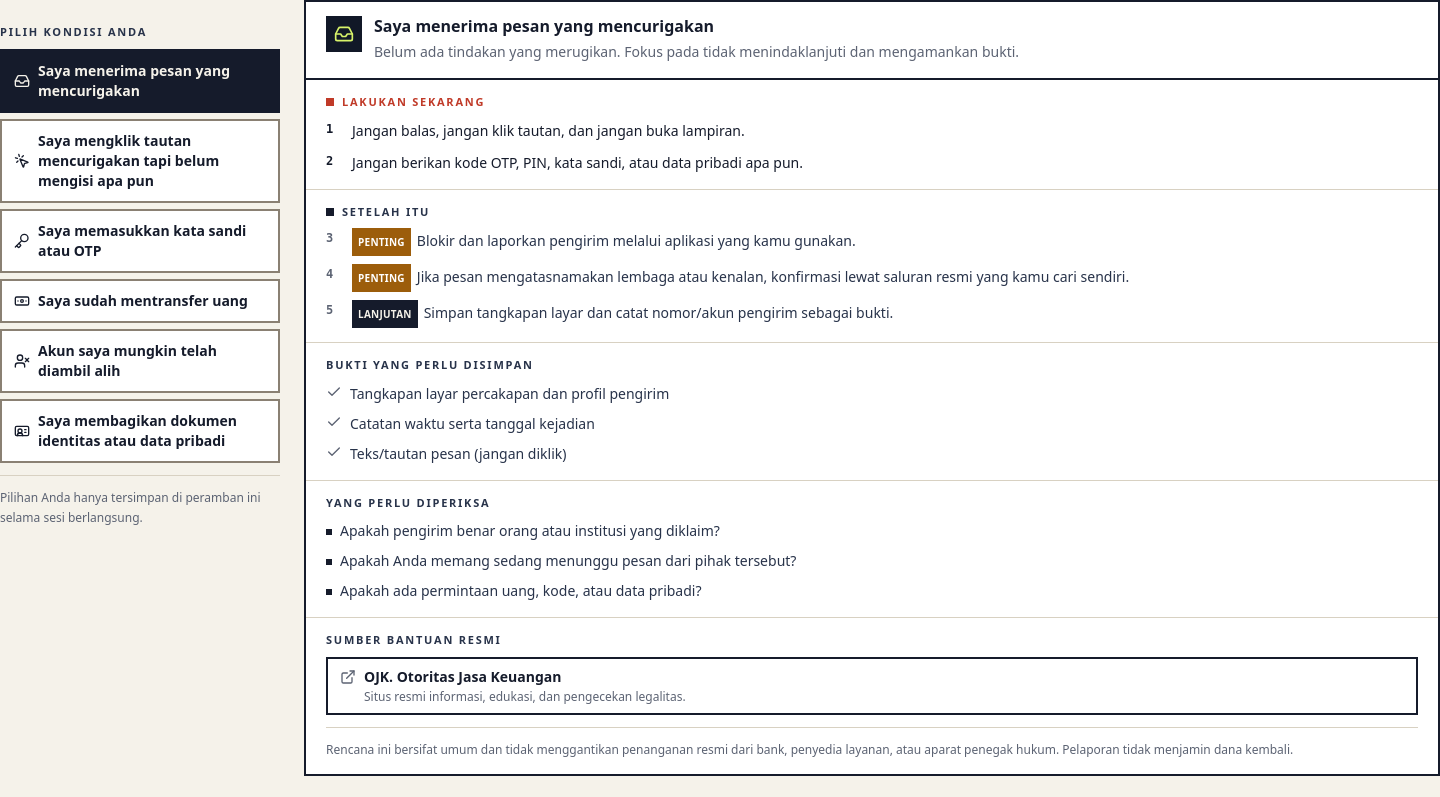
Test: Rencana tindakan › menampilkan lima bagian rencana untuk setiap kondisi
Click the button "Saya menerima pesan yang mencurigakan": (140, 80) left=0, top=48, right=280, bottom=112
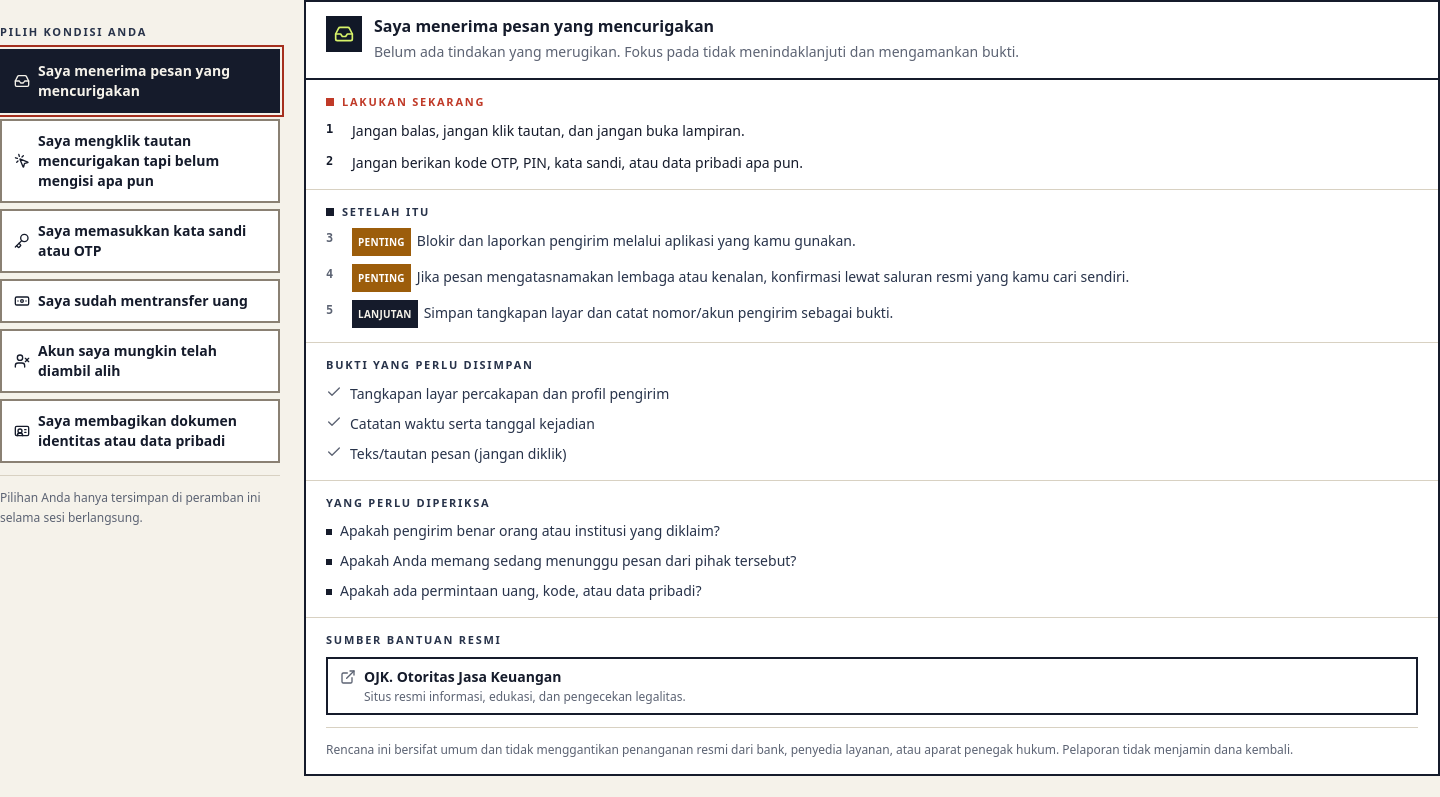
Expected: the text "Belum ada tindakan yang merugikan. Fokus pada tidak menindaklanjuti dan mengamankan bukti." is shown, left=374, top=42, right=1019, bottom=61
Expected: the heading "Lakukan sekarang" is shown, left=326, top=94, right=485, bottom=109
Click the button "Saya mengklik tautan mencurigakan tapi belum mengisi apa pun": (140, 160) left=0, top=118, right=280, bottom=202
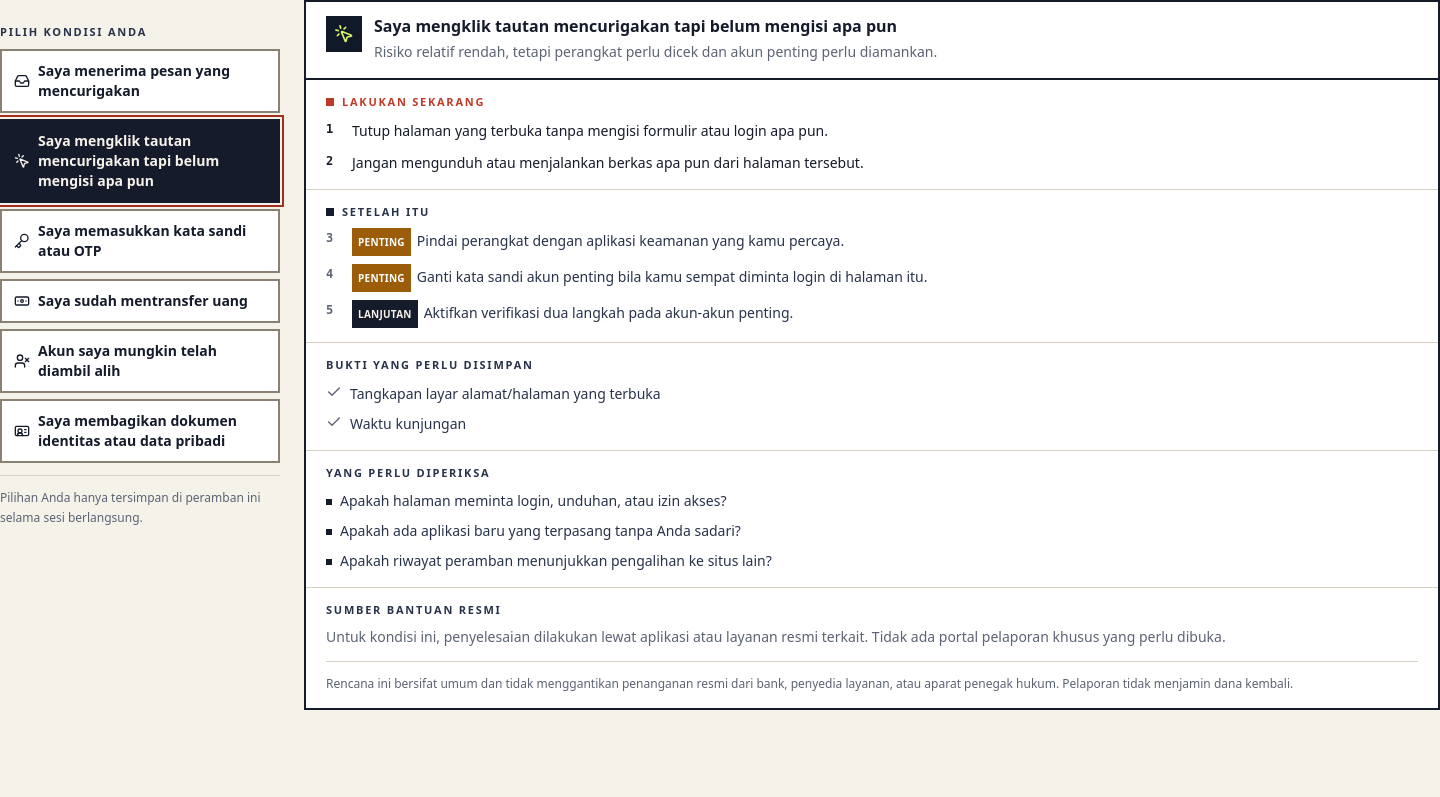
Expected: the heading "Lakukan sekarang" is shown, left=326, top=94, right=485, bottom=109
Now the text "Risiko relatif rendah, tetapi perangkat perlu dicek dan akun penting perlu diamankan." is shown, box left=374, top=42, right=937, bottom=61
Click the button "Saya memasukkan kata sandi atau OTP": (140, 240) left=0, top=208, right=280, bottom=272
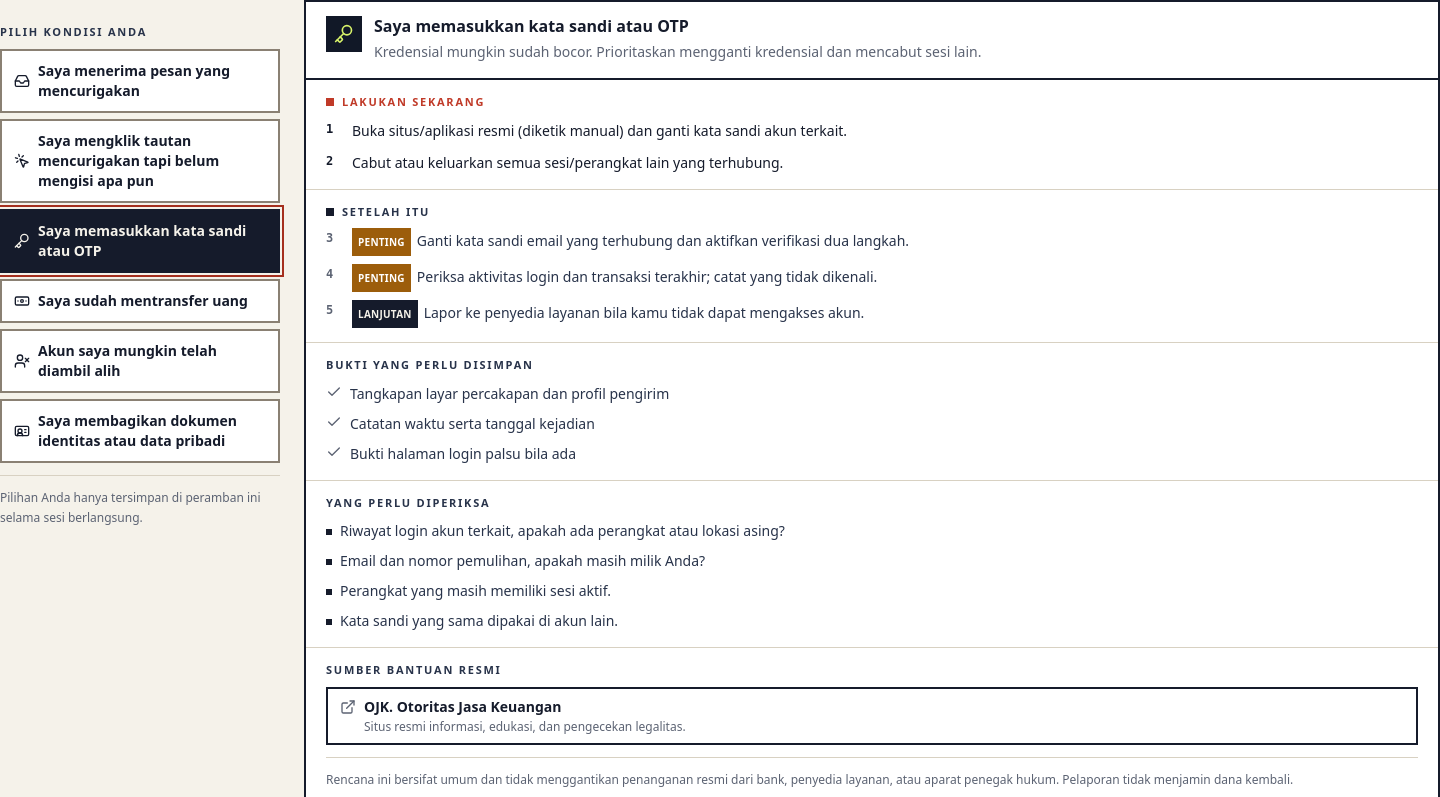
Expected: the heading "Lakukan sekarang" is shown, left=326, top=94, right=485, bottom=109
Now the text "Kredensial mungkin sudah bocor. Prioritaskan mengganti kredensial dan mencabut sesi lain." is shown, box left=374, top=42, right=981, bottom=61
Click the button "Saya sudah mentransfer uang": (140, 300) left=0, top=278, right=280, bottom=322
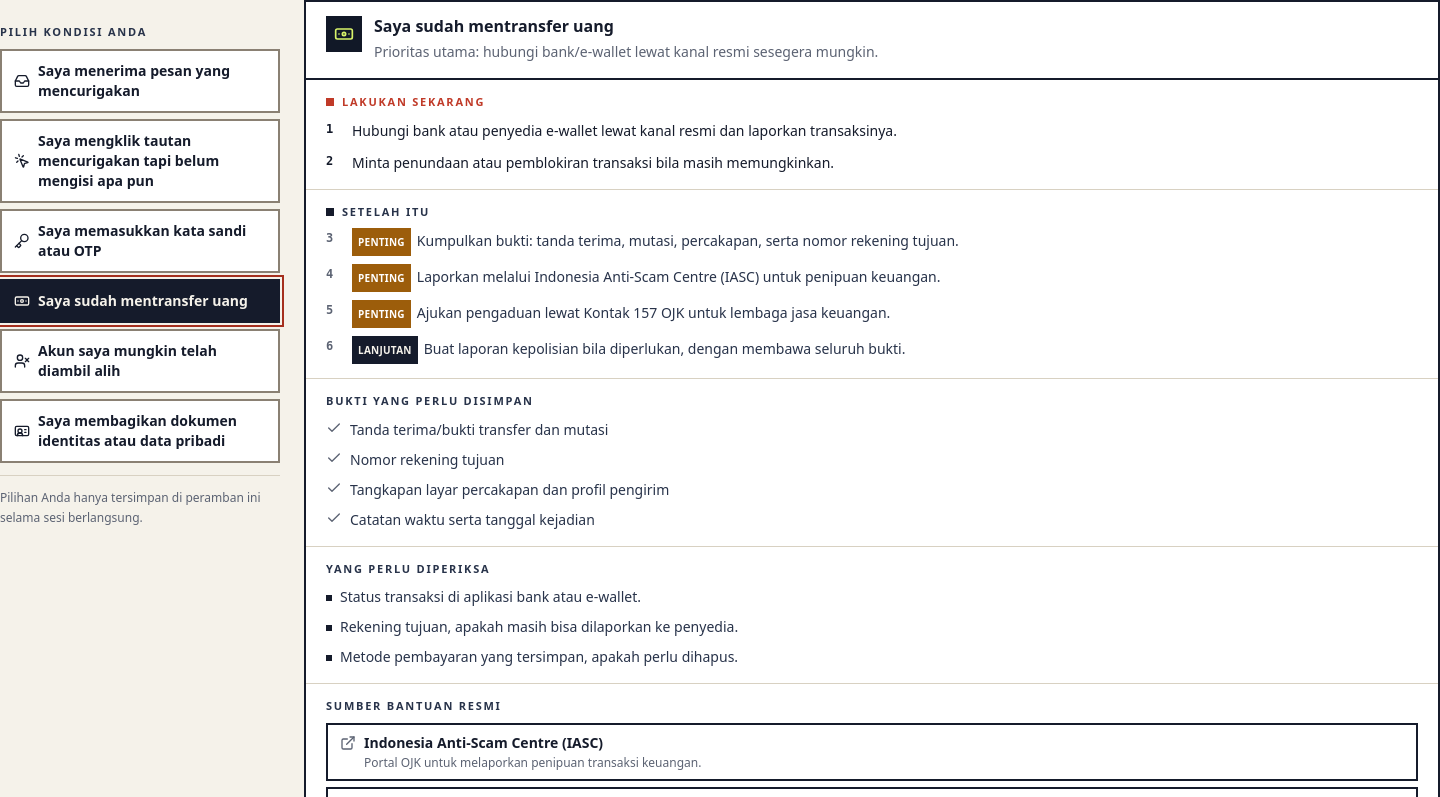
Expected: the heading "Lakukan sekarang" is shown, left=326, top=94, right=485, bottom=109
Now the text "Prioritas utama: hubungi bank/e-wallet lewat kanal resmi sesegera mungkin." is shown, box left=374, top=40, right=878, bottom=64
Click the button "Akun saya mungkin telah diambil alih": (140, 360) left=0, top=328, right=280, bottom=392
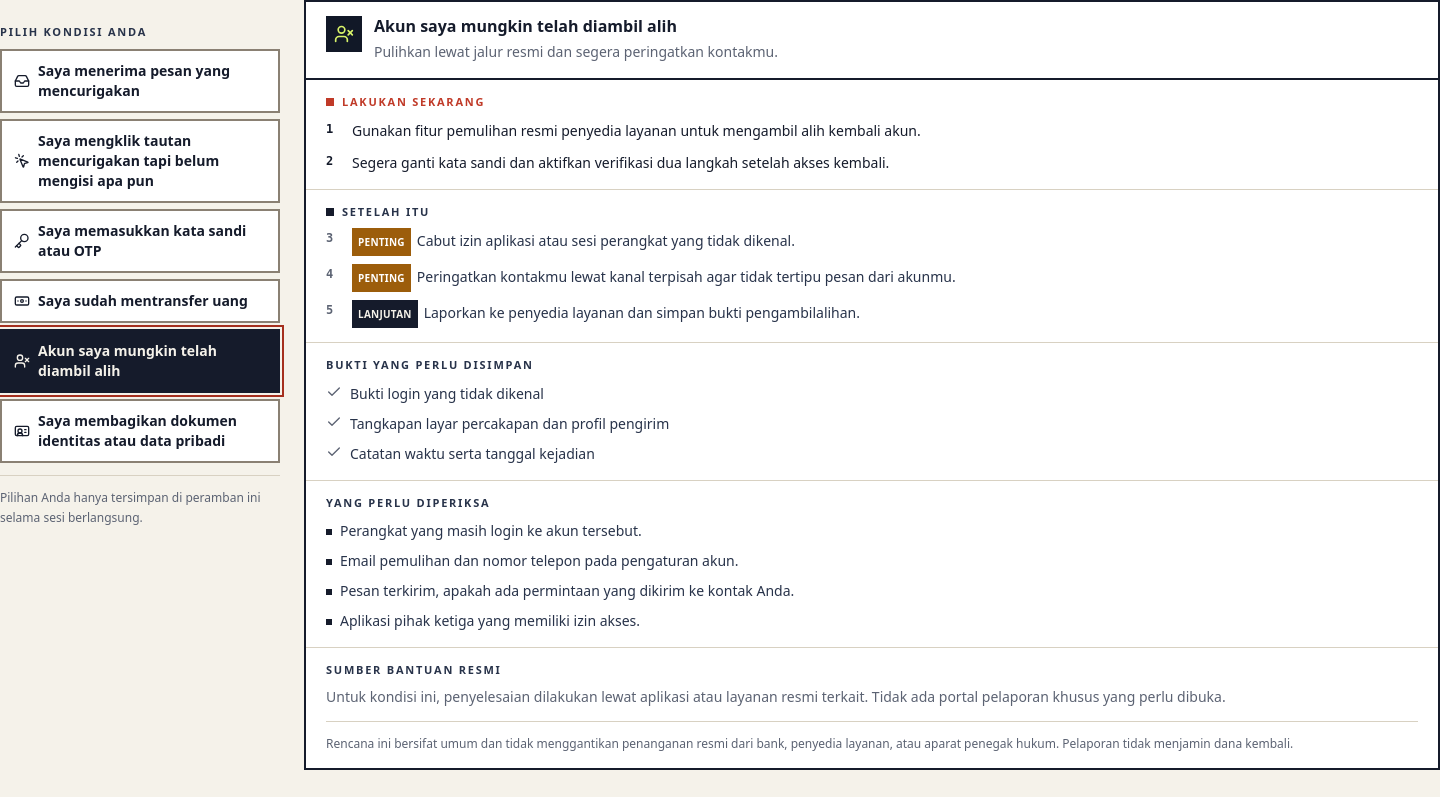
Expected: the heading "Lakukan sekarang" is shown, left=326, top=94, right=485, bottom=109
Now the text "Pulihkan lewat jalur resmi dan segera peringatkan kontakmu." is shown, box left=374, top=40, right=778, bottom=64
Click the button "Saya membagikan dokumen identitas atau data pribadi": (140, 430) left=0, top=398, right=280, bottom=462
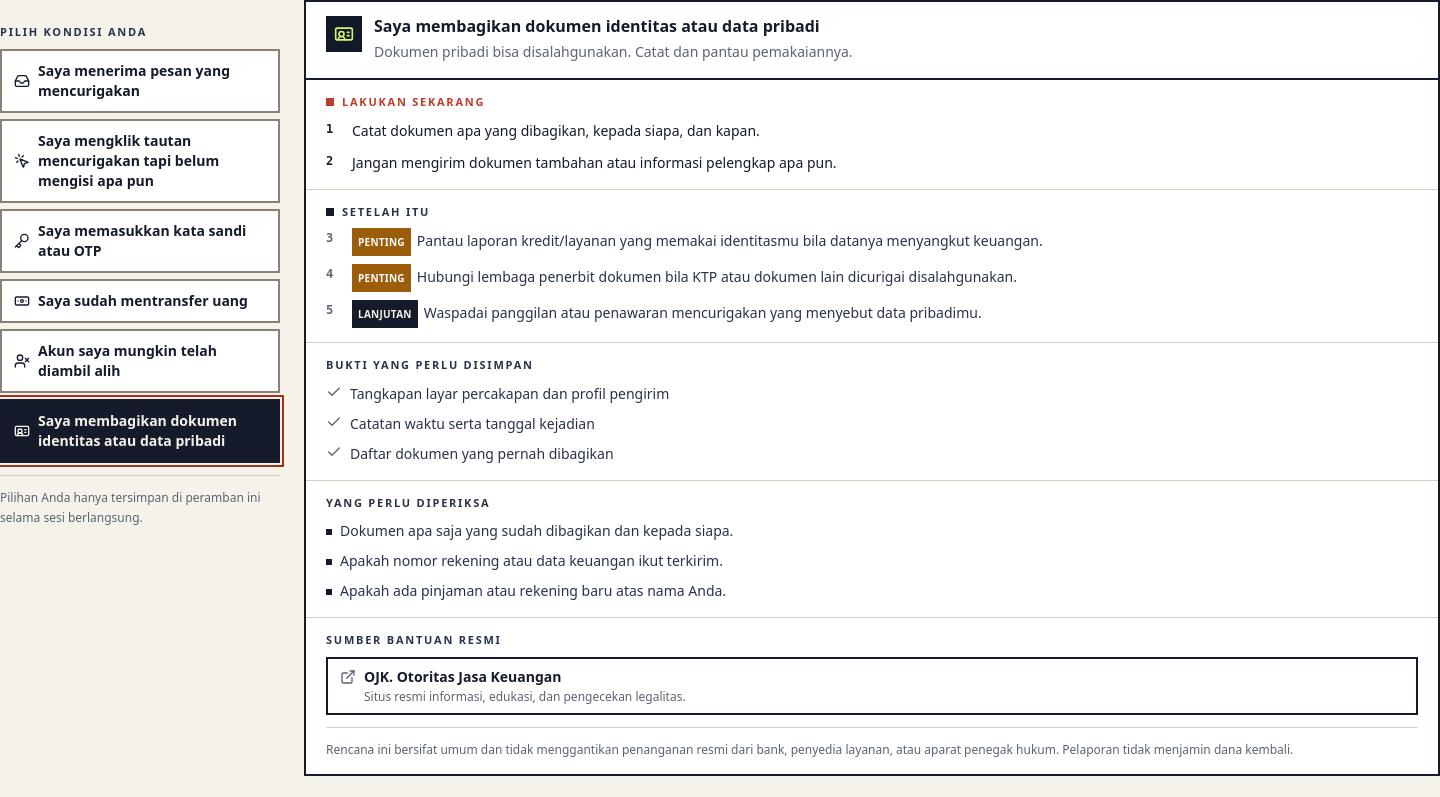
Expected: the heading "Lakukan sekarang" is shown, left=326, top=94, right=485, bottom=109
Now the text "Dokumen pribadi bisa disalahgunakan. Catat dan pantau pemakaiannya." is shown, box left=374, top=40, right=853, bottom=64
